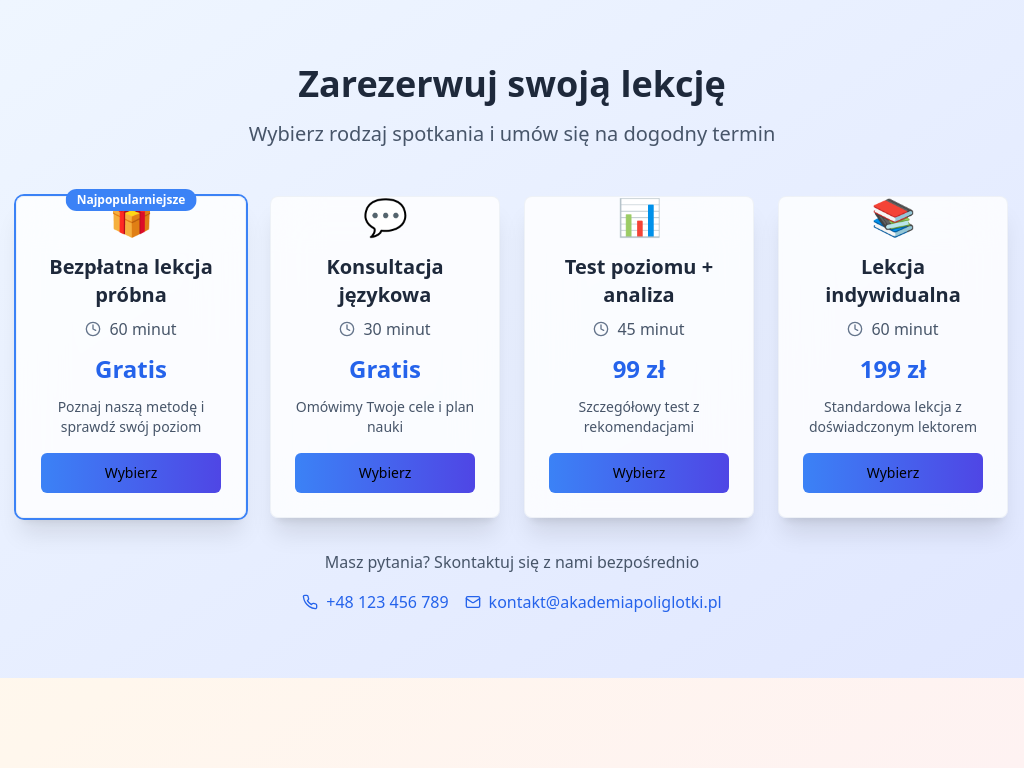
Scenario: BookingSystem › should allow a user to complete the entire booking process
The image size is (1024, 768).
Note: Select a service
Click the heading "Bezpłatna lekcja próbna".
click(131, 281)  # box [41, 253, 221, 309]
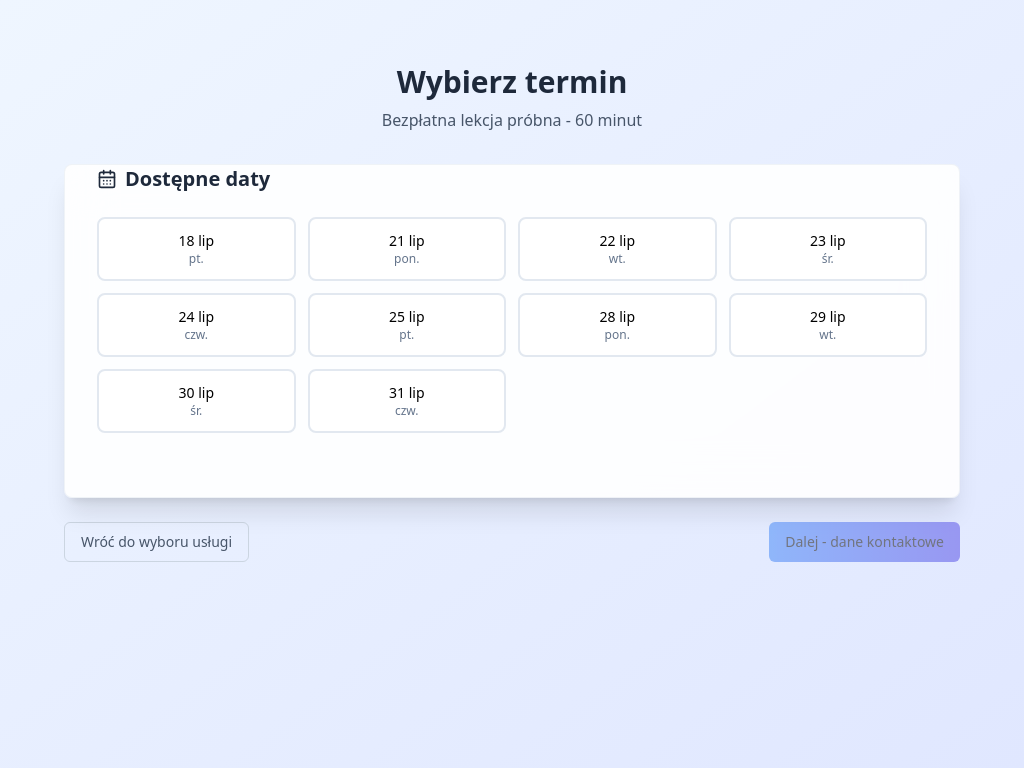
Check: the heading "Wybierz termin" is shown, box [397, 61, 627, 102]
Note: Find the first available date and click it
Click the button "18 lip pt.".
click(196, 249)  # box [97, 217, 296, 281]
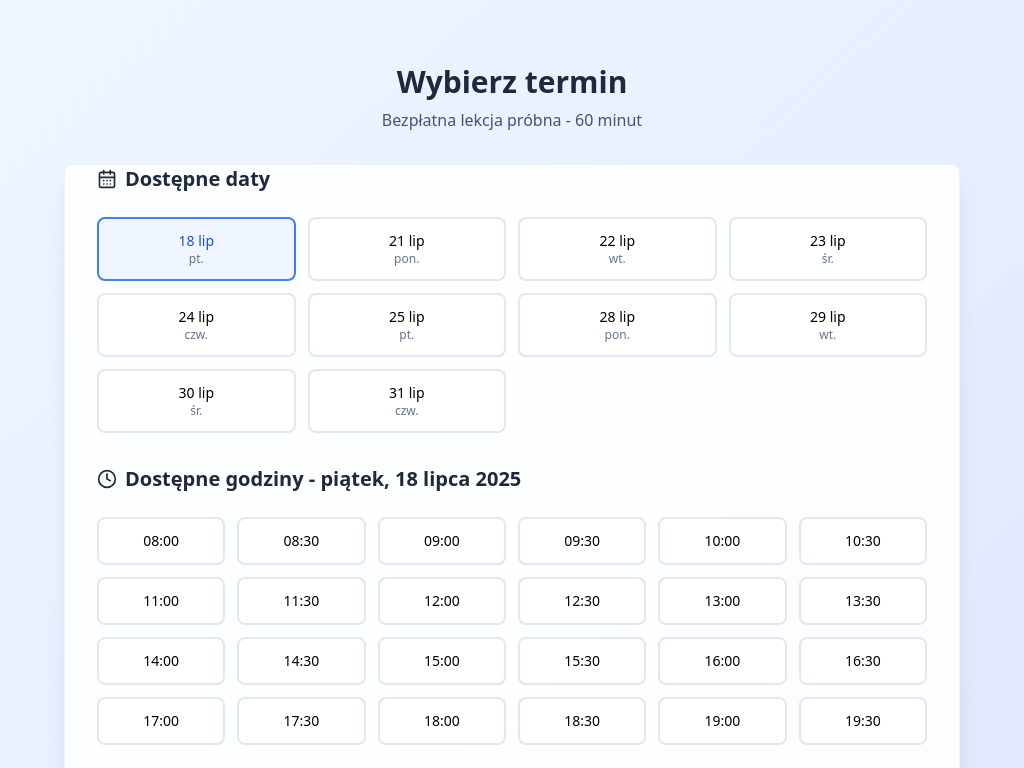
Check: the button "08:00" is shown
Click the button "08:00".
click(161, 541)  # box [97, 517, 225, 565]
(page scrolled)
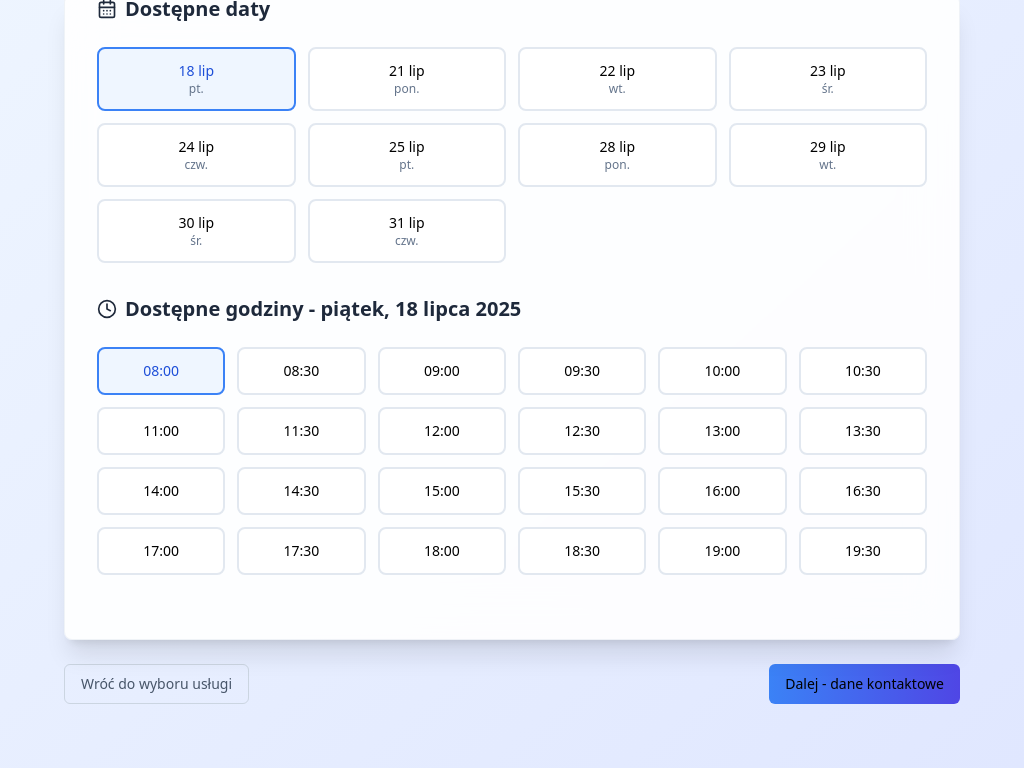
Click the button "Dalej - dane kontaktowe".
click(865, 684)  # box [769, 664, 960, 704]
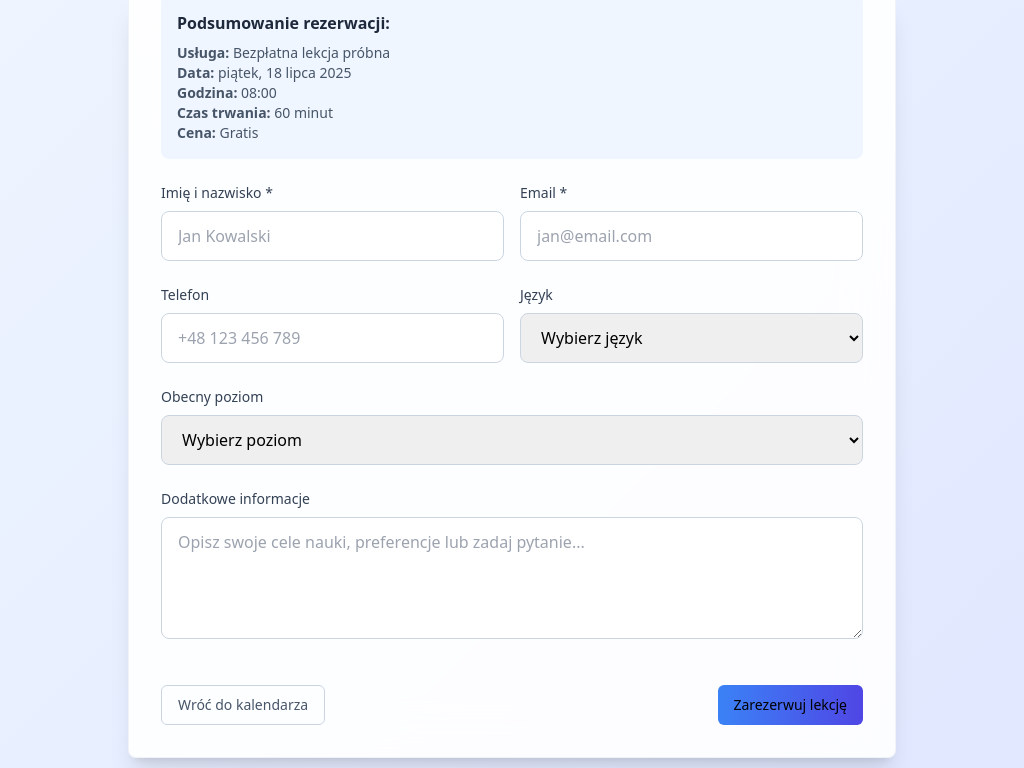
Type "Test User" into the field with placeholder "Jan Kowalski".
click(332, 236); type("Test User")  # box [161, 211, 504, 261]
Type "test@example.com" into the field with placeholder "jan@email.com".
click(692, 236); type("test@example.com")  # box [520, 211, 863, 261]
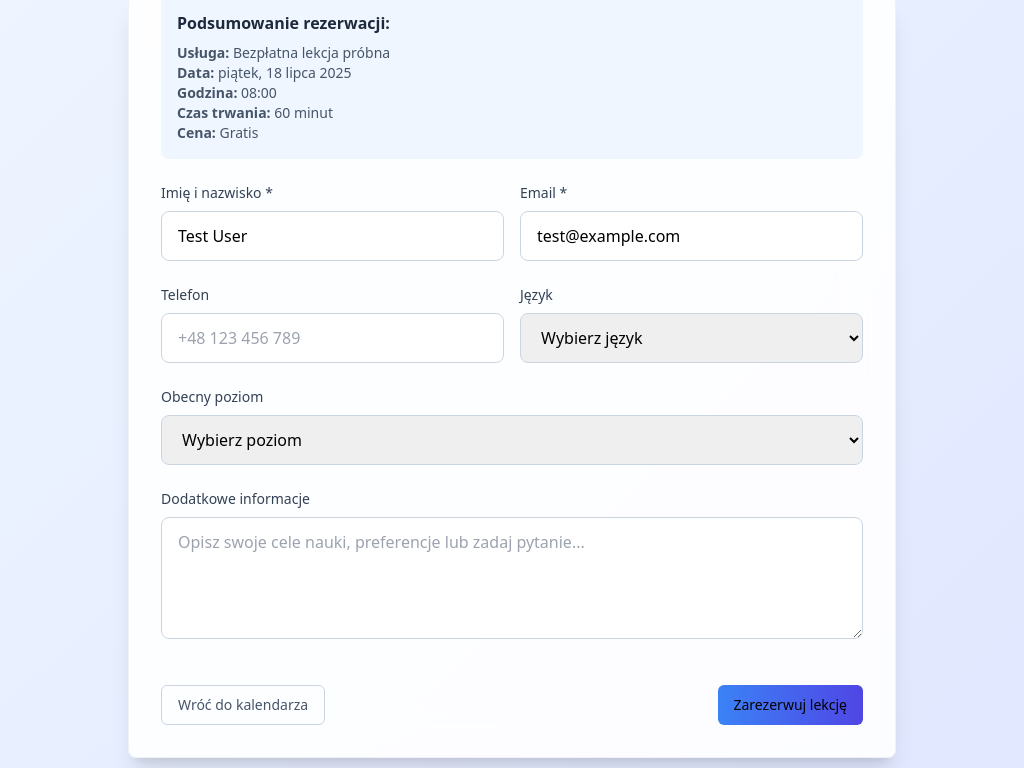
Click the button "Zarezerwuj lekcję".
click(790, 705)  # box [718, 685, 863, 725]
(page scrolled)
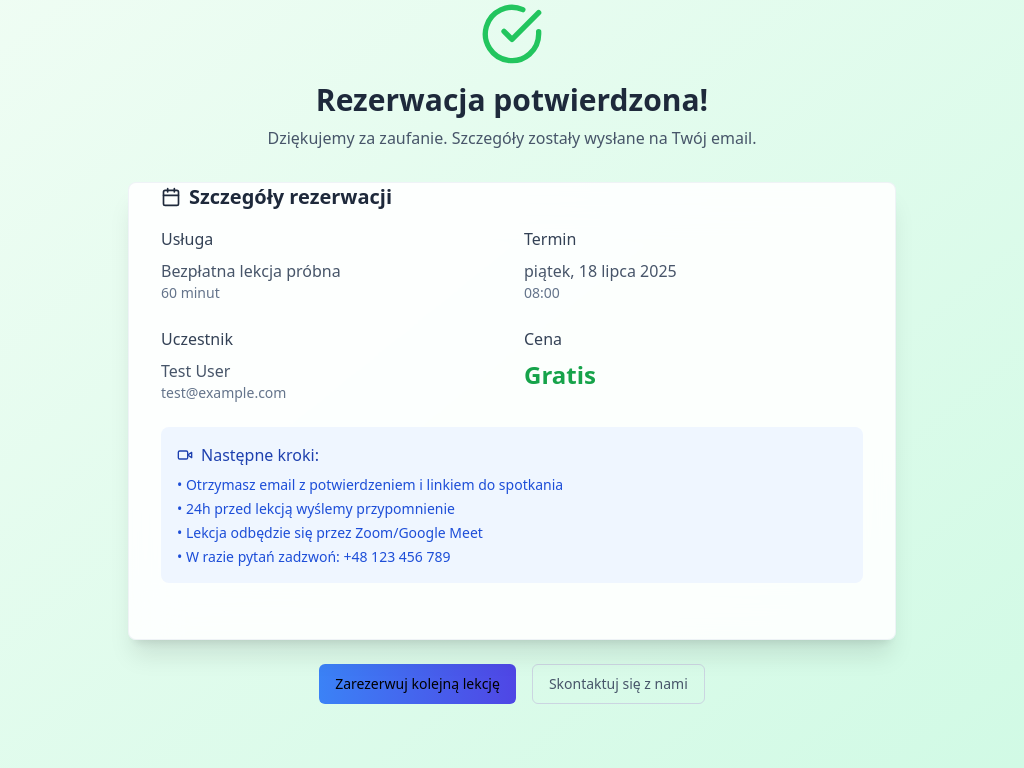
Check: the heading "Rezerwacja potwierdzona!" is shown, box [316, 79, 708, 120]
Check: the text "Test User" is shown, box [161, 360, 230, 382]
Check: the text "test@example.com" is shown, box [161, 383, 286, 402]
